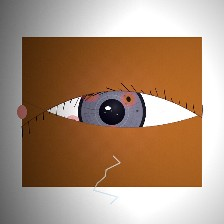foreign_body_visible: (69, 76, 111, 109)
